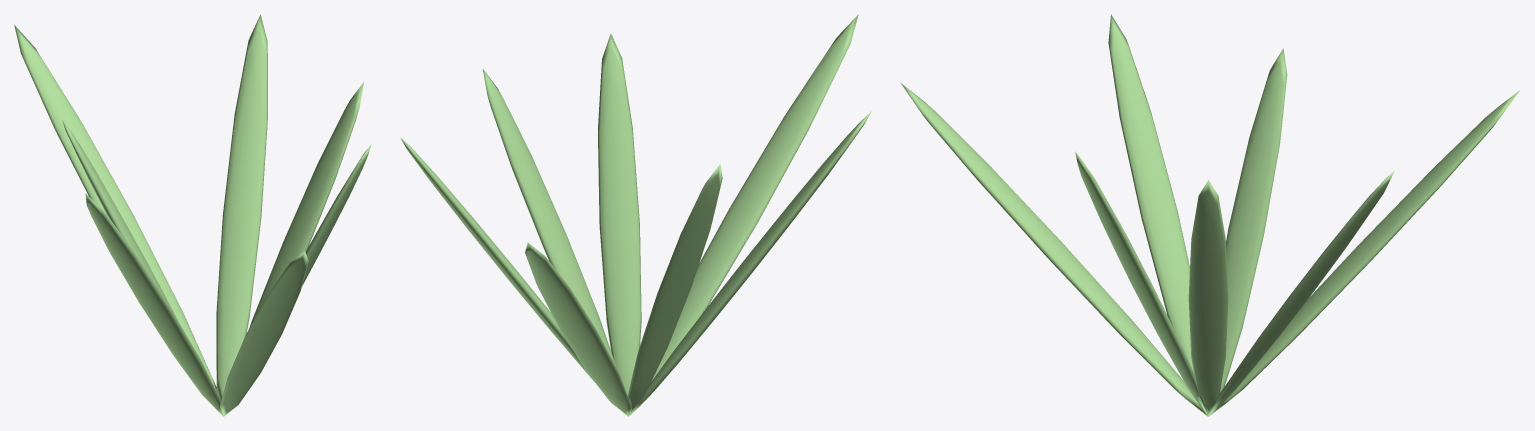
Rendered from VCrop_Rice_3.fbx.
The picture shows the model from 3 angles, left to right: view 1: azimuth 30°, elevation 25°; view 2: azimuth 150°, elevation 25°; view 3: azimuth 270°, elevation 25°; orthographic projection. The views are drawn at different scales.
Visible parts, largest first — view 1: VCrop_Rice_3; view 2: VCrop_Rice_3; view 3: VCrop_Rice_3.
Part boxes in pixels (bbox=[...]): VCrop_Rice_3: bbox=[14, 14, 371, 416]; VCrop_Rice_3: bbox=[400, 14, 871, 416]; VCrop_Rice_3: bbox=[901, 14, 1519, 416].
Bounding box in the file's own units: 0.2509 × 0.2236 × 0.4051.
